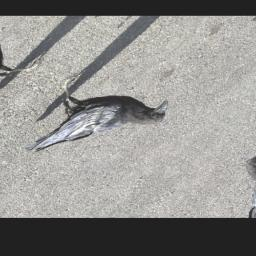Crow: (0, 61, 180, 184)
